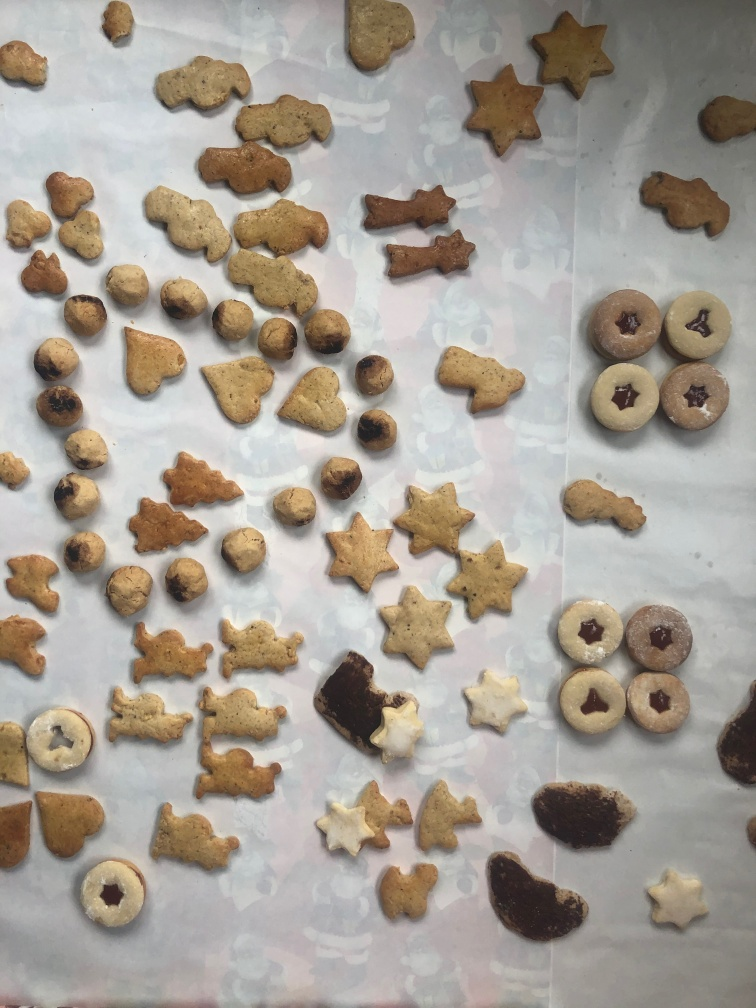angel: (436, 338, 537, 422)
christmas shortbread with jam: (582, 359, 663, 433), (77, 856, 154, 933), (21, 705, 103, 777), (587, 286, 658, 368), (558, 667, 631, 743), (550, 594, 631, 661), (662, 288, 732, 360), (663, 360, 731, 434), (626, 598, 693, 670), (630, 669, 692, 738)
christmas tree: (122, 494, 212, 555), (163, 450, 243, 512)
flake: (2, 193, 55, 255), (42, 168, 93, 221), (59, 207, 105, 265), (16, 246, 65, 300)
heart: (198, 349, 275, 434), (338, 4, 420, 80), (275, 360, 352, 437), (116, 321, 192, 399), (33, 785, 104, 858), (1, 795, 41, 874)
lamb: (413, 779, 483, 854), (372, 855, 439, 929), (3, 549, 65, 624), (358, 775, 418, 850), (3, 611, 52, 685)
santa claus: (527, 6, 614, 105), (459, 58, 544, 157), (218, 241, 319, 324), (142, 795, 243, 878), (378, 579, 460, 674), (233, 85, 344, 154), (213, 606, 305, 688), (141, 181, 234, 262), (638, 165, 732, 244), (186, 734, 282, 811), (230, 193, 331, 265), (103, 679, 194, 757), (153, 48, 254, 118), (389, 479, 475, 561), (320, 509, 398, 597), (194, 136, 297, 200), (447, 538, 526, 621), (197, 677, 289, 748), (121, 617, 216, 684), (459, 665, 531, 741)
shooting star: (377, 229, 479, 288), (356, 177, 460, 234)
snowball: (105, 557, 155, 621), (265, 482, 325, 535), (348, 404, 402, 460), (158, 272, 208, 332), (314, 449, 372, 500), (31, 333, 91, 380), (98, 260, 154, 310), (52, 468, 104, 521), (299, 304, 350, 357), (58, 529, 106, 582), (212, 289, 255, 346), (162, 556, 212, 605), (59, 421, 105, 473), (260, 313, 304, 367), (33, 385, 86, 429), (352, 347, 395, 401), (214, 527, 269, 569)
snowman: (555, 472, 655, 540)
star: (644, 866, 710, 935), (311, 793, 372, 867), (370, 700, 430, 771)
weird #1: (484, 850, 590, 946), (525, 778, 638, 854), (314, 652, 385, 754)
